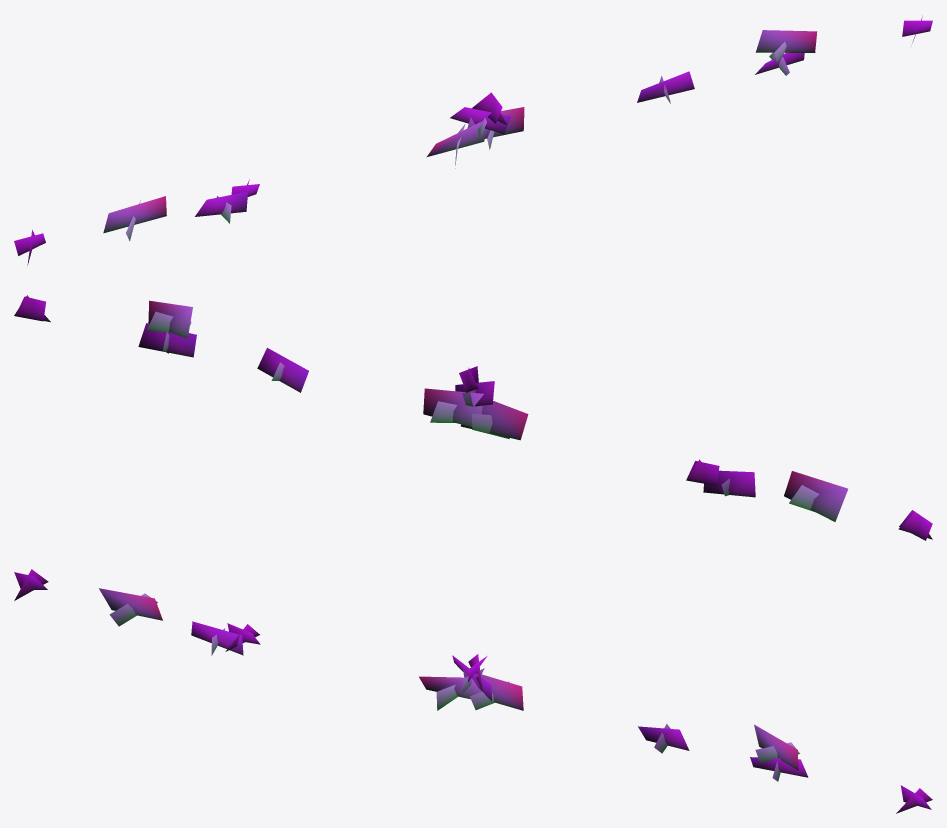
The model's file is generibush_cracks.dae.
3 renders of one model, top to bottom at view 1: azimuth 30°, elevation 25°; view 2: azimuth 150°, elevation 25°; view 3: azimuth 330°, elevation 25°, orthographic.
Visible parts, largest first — view 1: generibush_cracks_a500; view 2: generibush_cracks_a500; view 3: generibush_cracks_a500.
Boxes of the visible parts, x1,y1,x2,y2 form: generibush_cracks_a500: (14, 15, 932, 264); generibush_cracks_a500: (14, 295, 932, 540); generibush_cracks_a500: (14, 569, 932, 813).
Bounding box in the file's own units: 3.7 × 0.1947 × 0.2494.
